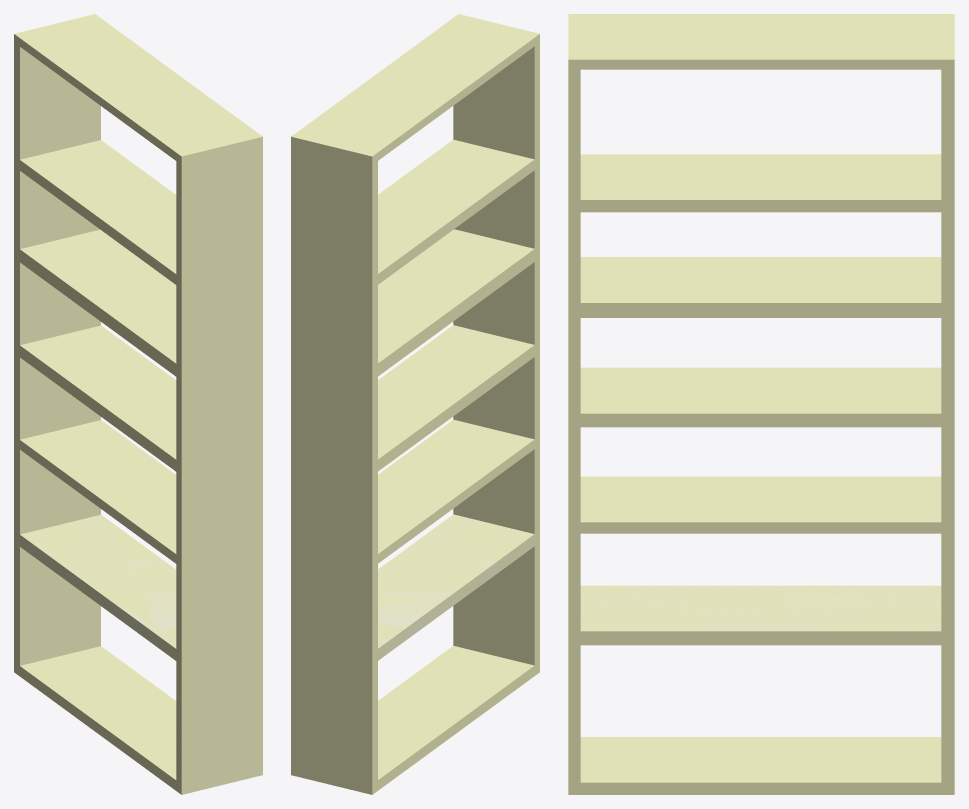
File: Bookcase.dae
The picture shows the model from 3 angles, left to right: view 1: azimuth 30°, elevation 25°; view 2: azimuth 150°, elevation 25°; view 3: azimuth 270°, elevation 25°; orthographic projection. The views are drawn at different scales.
Parts seen in each view (by area): view 1: SketchUp (×2); view 2: SketchUp (×2); view 3: SketchUp (×2).
Part boxes in pixels (left/top/right/bottom): SketchUp (×2): left=14, top=14, right=262, bottom=794; SketchUp (×2): left=291, top=14, right=539, bottom=794; SketchUp (×2): left=568, top=14, right=954, bottom=794.
Size of the model in its own units: 9.98 by 35.64 by 74.88.
